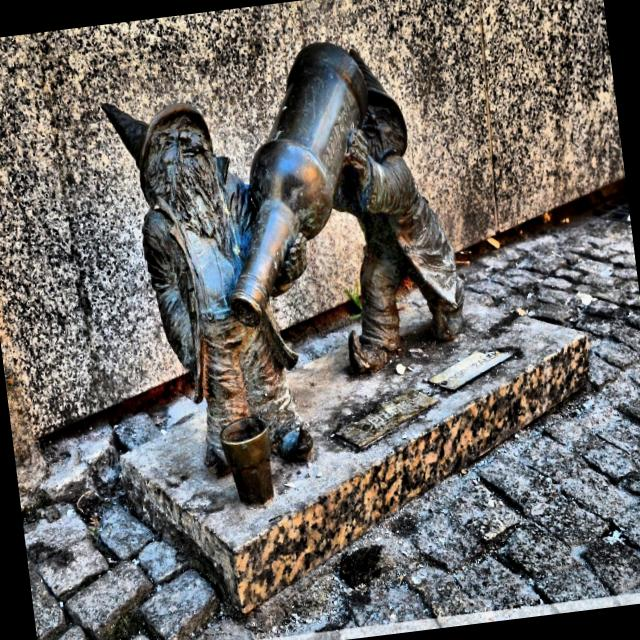Ogorzalek_i_Opilek: (102, 42, 463, 476)
